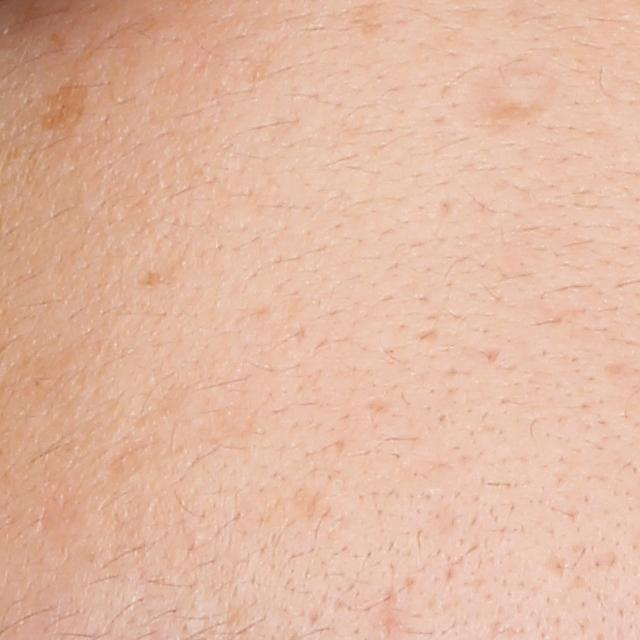atrophic_scar: (436, 59, 593, 134), (360, 394, 397, 418)
melasma: (30, 74, 93, 138)
